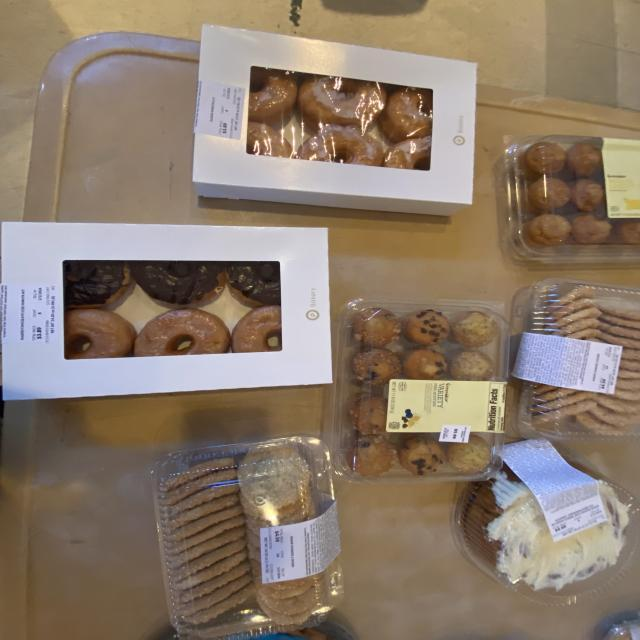Bread: (2, 222, 332, 400), (194, 25, 477, 215), (153, 436, 344, 640), (330, 299, 508, 484), (452, 440, 638, 605), (513, 279, 640, 441), (496, 135, 640, 264)
